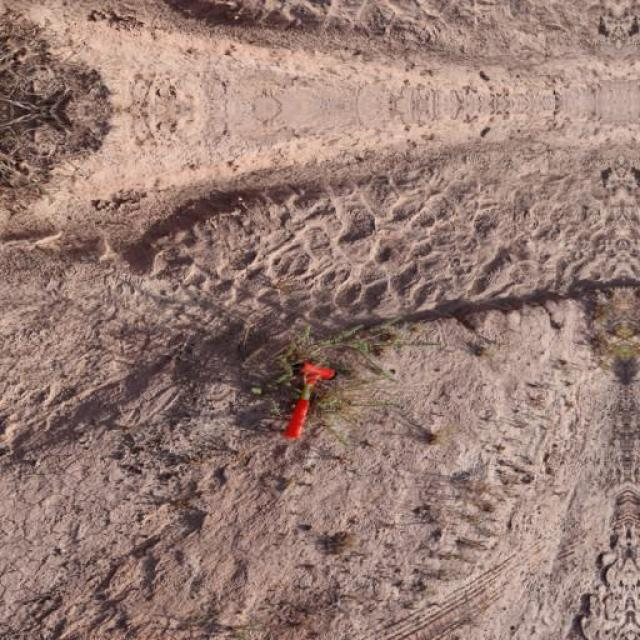mallet: (281, 359, 335, 440)
